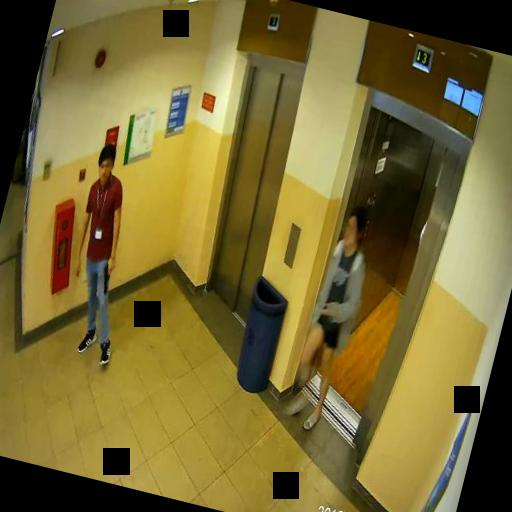Handgun: (98, 258, 114, 294)
